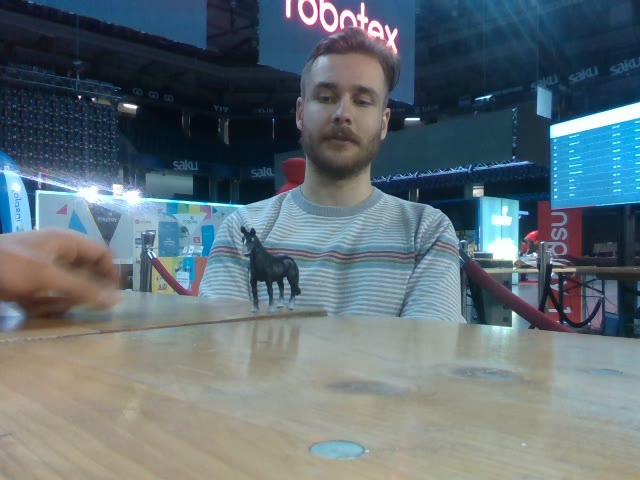toy: (240, 226, 301, 314)
